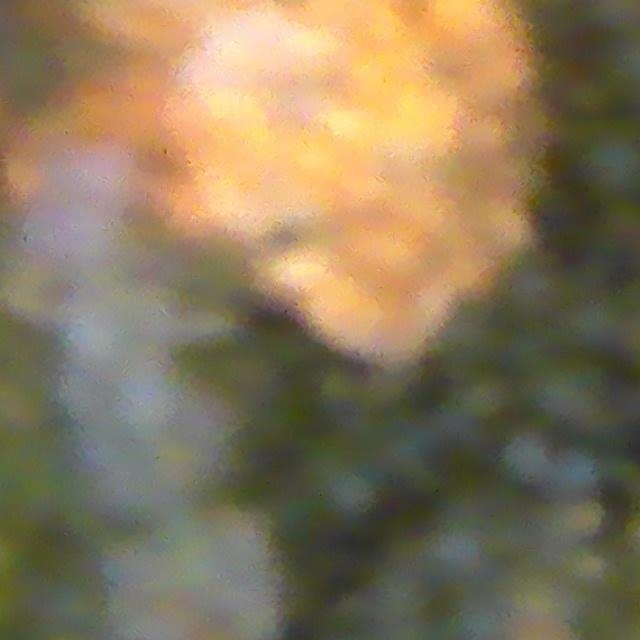SeaGrape: (530, 353, 615, 438), (575, 118, 640, 203), (440, 590, 516, 640)
